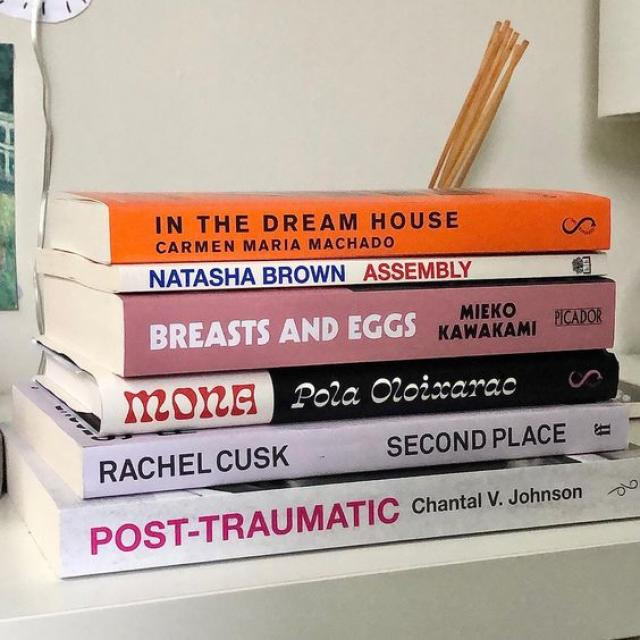book: (59, 457, 640, 579), (82, 405, 627, 499), (123, 285, 615, 377), (101, 357, 619, 437), (108, 198, 611, 263), (110, 256, 607, 293)
